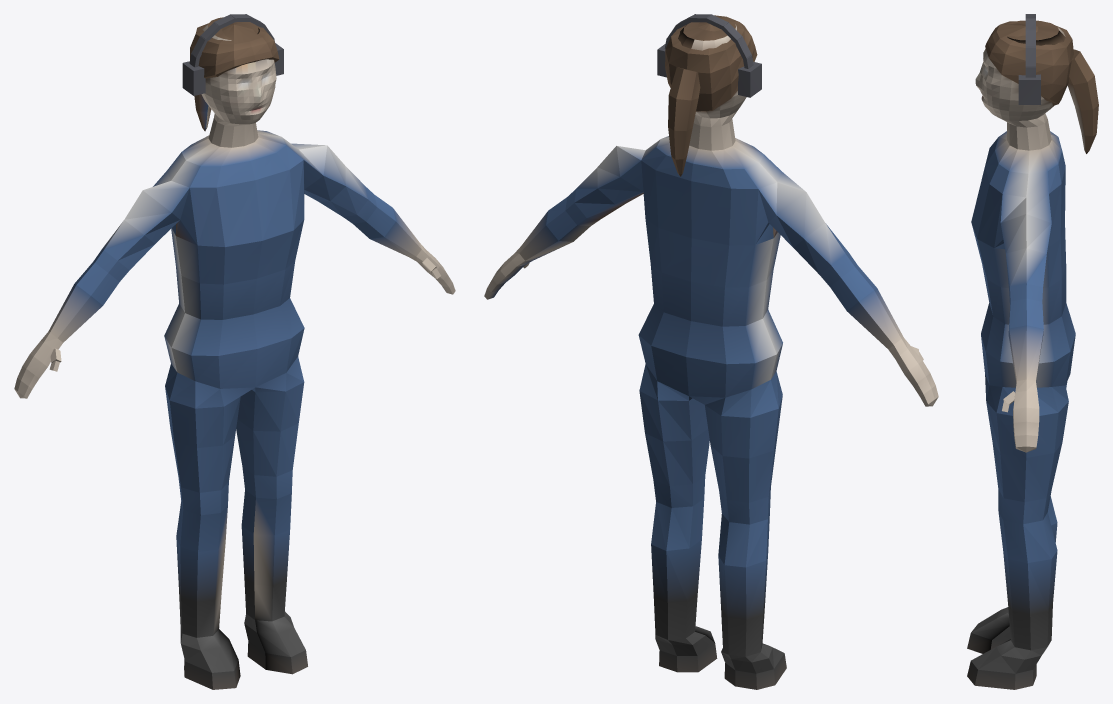
File: char__pessoa__ines.glb
3 views of the same model, side by side, from view 1: azimuth 30°, elevation 25°; view 2: azimuth 150°, elevation 25°; view 3: azimuth 270°, elevation 25° (orthographic). The views are drawn at different scales.
Parts seen in each view (by area): view 1: char__pessoa__ines; view 2: char__pessoa__ines; view 3: char__pessoa__ines.
Part boxes in pixels (bbox=[...]): char__pessoa__ines: bbox=[14, 14, 455, 689]; char__pessoa__ines: bbox=[484, 14, 938, 689]; char__pessoa__ines: bbox=[967, 14, 1098, 689].
Bounding box in the file's own units: 1.18 × 1.68 × 0.3092.
